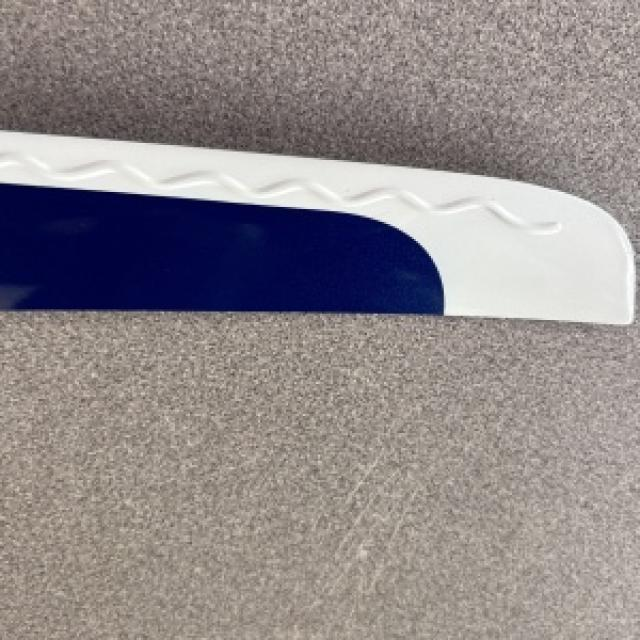healthy: (0, 128, 631, 320)
